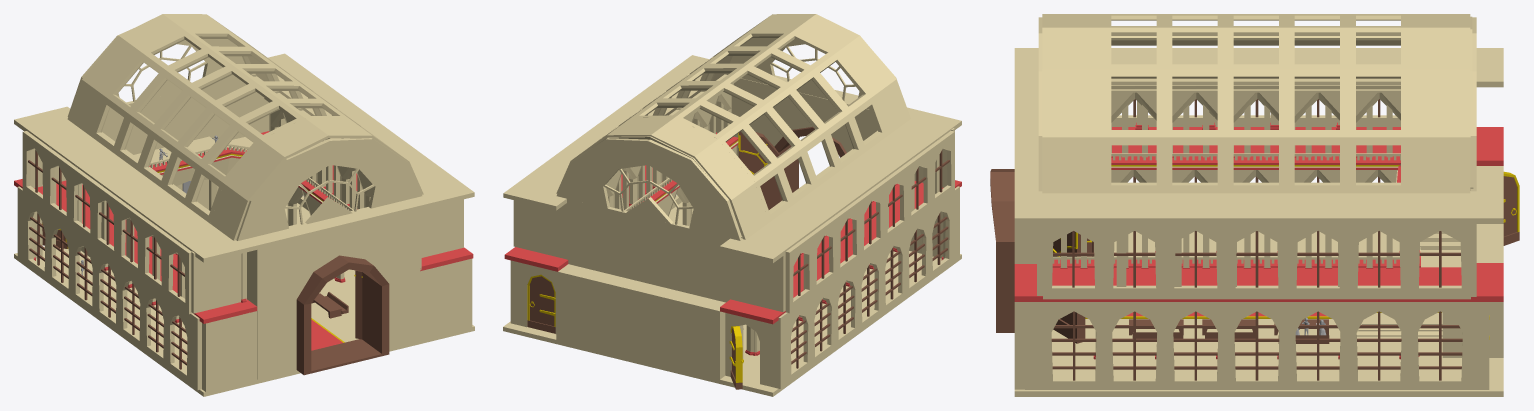
The model's file is ThroneRoom.fbx.
3 views of the same model, side by side, from view 1: azimuth 30°, elevation 25°; view 2: azimuth 150°, elevation 25°; view 3: azimuth 270°, elevation 25° (orthographic). The views are drawn at different scales.
Parts seen in each view (by area): view 1: Scene3:Throne_princess2, Scene3:door_back002, Scene3:table003; view 2: Scene3:Throne_princess2, Scene3:door002, Scene3:door_back002; view 3: Scene3:Throne_princess2, Scene3:table003, Scene3:door002, Scene3:door_back002.
Part boxes in pixels (<box>): Scene3:Throne_princess2: <box>14,14,474,396</box>; Scene3:door_back002: <box>354,270,362,339</box>; Scene3:table003: <box>311,291,348,318</box>; Scene3:Throne_princess2: <box>503,14,961,396</box>; Scene3:door002: <box>527,274,743,389</box>; Scene3:door_back002: <box>738,131,779,209</box>; Scene3:Throne_princess2: <box>990,14,1503,396</box>; Scene3:table003: <box>1129,319,1329,343</box>; Scene3:door002: <box>1489,171,1519,339</box>; Scene3:door_back002: <box>1053,231,1094,343</box>.
Bounding box in the file's own units: 33.48 × 25.65 × 43.32.
